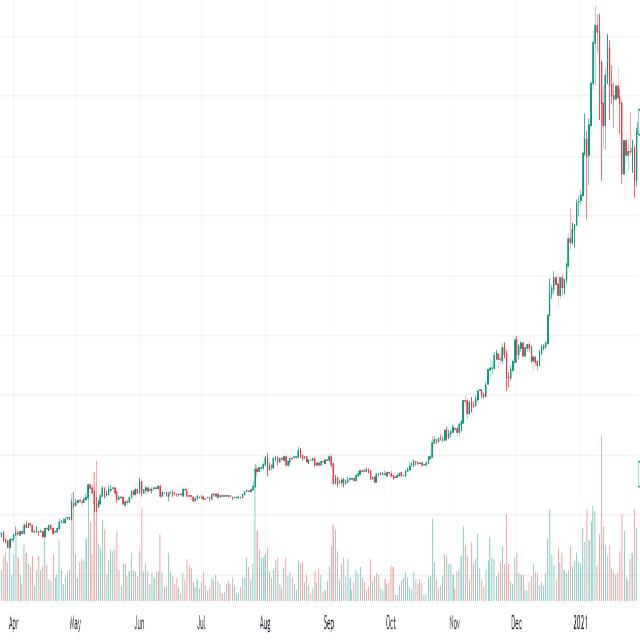Head-Shoulders: (578, 0, 626, 238)
